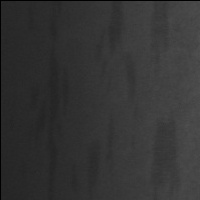inclusion: (29, 6, 70, 200), (95, 2, 139, 108), (148, 120, 183, 200), (147, 1, 175, 80), (79, 137, 105, 200), (102, 109, 119, 163)
